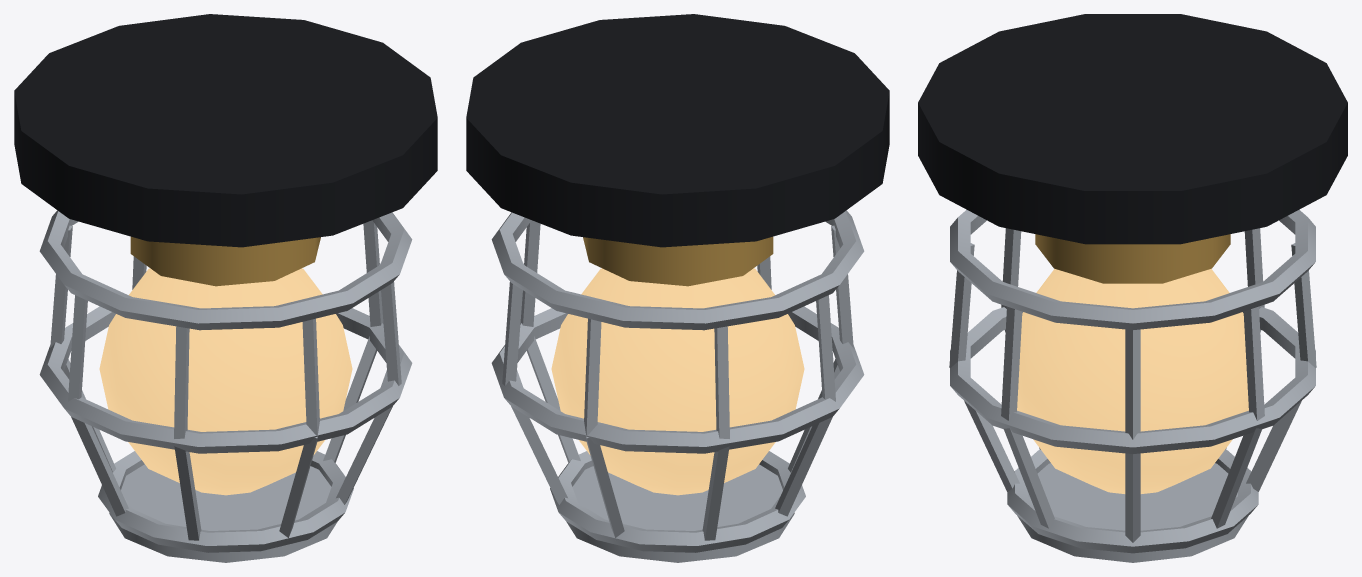
File: ceilinglight_cage_light.glb
3 views of the same model, side by side, from view 1: azimuth 30°, elevation 25°; view 2: azimuth 150°, elevation 25°; view 3: azimuth 270°, elevation 25° (orthographic).
Parts seen in each view (by area): view 1: ceilinglight_cage_light; view 2: ceilinglight_cage_light; view 3: ceilinglight_cage_light.
Part boxes in pixels (x1,y1,x2,y2): ceilinglight_cage_light: [14, 14, 437, 562]; ceilinglight_cage_light: [466, 14, 889, 562]; ceilinglight_cage_light: [918, 14, 1347, 562].
Size of the model in its own units: 0.2145 by 0.232 by 0.22.
